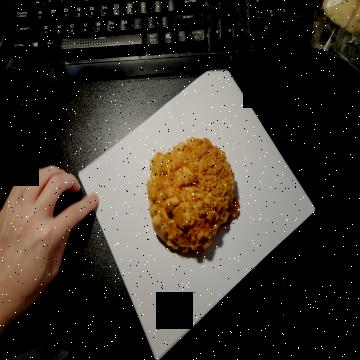soboru_bread: (148, 137, 241, 261)
